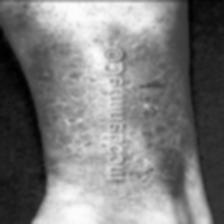Non-Cancerous Skin Condition: (60, 7, 174, 212)
